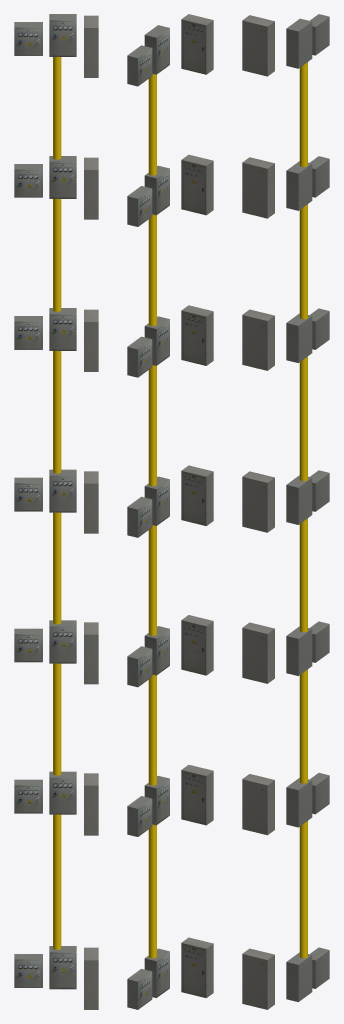
The model's file is PDG-F1-F10-A.obj.
3 views of the same model, side by side, from view 1: azimuth 90°, elevation 25°; view 2: azimuth 150°, elevation 25°; view 3: azimuth 330°, elevation 25° (orthographic).
Visible parts, largest first — view 1: PDG_F1_F10_A, PDG_F1_F10_xian_A; view 2: PDG_F1_F10_A, PDG_F1_F10_xian_A; view 3: PDG_F1_F10_A, PDG_F1_F10_xian_A.
Boxes of the visible parts, x1,y1,x2,y2 form: PDG_F1_F10_A: (14,14,98,1009); PDG_F1_F10_xian_A: (53,57,61,949); PDG_F1_F10_A: (127,14,213,1009); PDG_F1_F10_xian_A: (148,74,156,958); PDG_F1_F10_A: (242,14,329,1009); PDG_F1_F10_xian_A: (299,62,307,958).
Bounding box in the file's own units: 1220 × 25286 × 1970.
3 materials, 2 textured.
